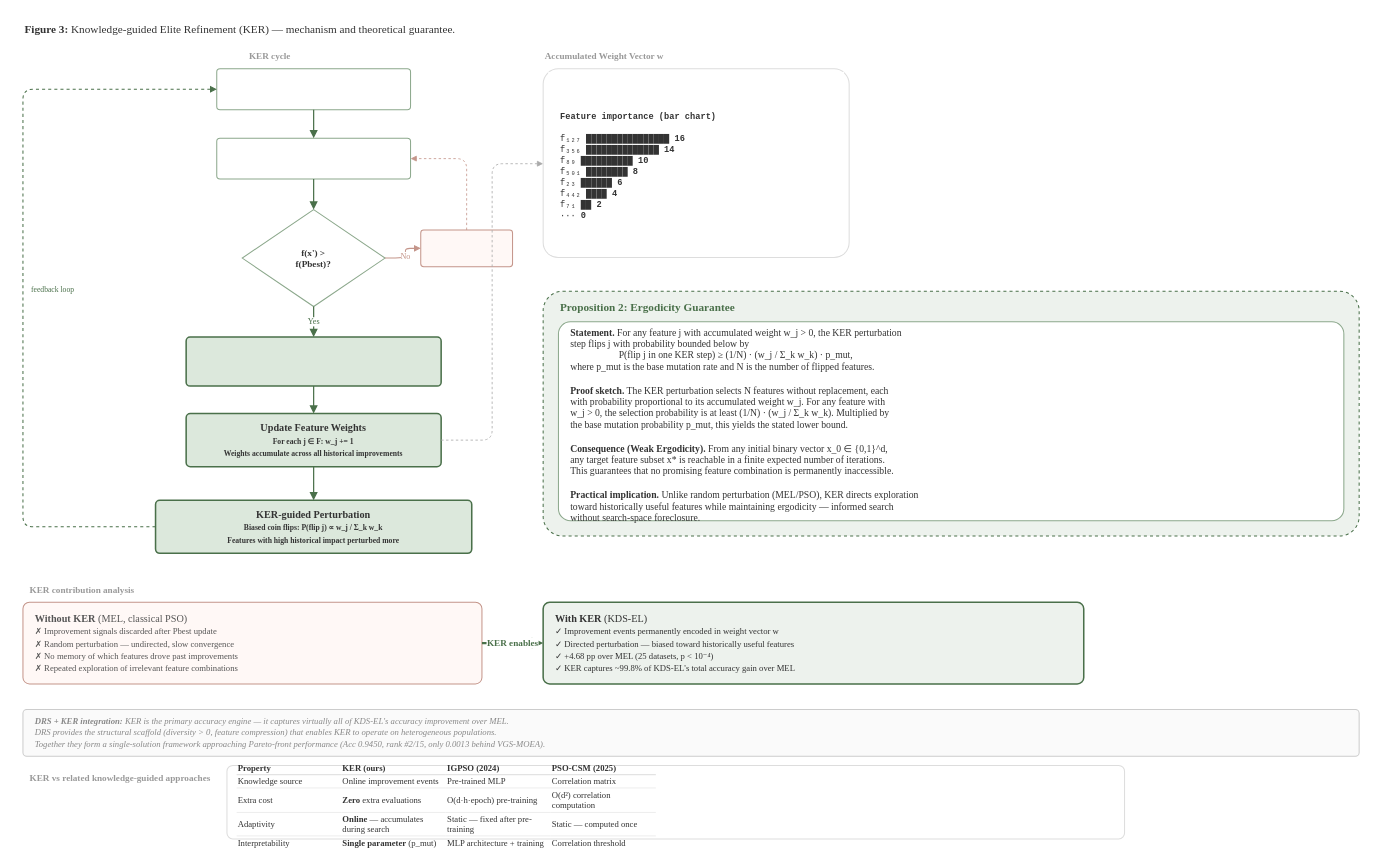
Some shapes in this 1377 by 866 pixel diagram are drawn without their labels. Each missing label, with the centre of its shape:
"Current Elite x* Best solution in population" goes at [313,89].
"Elite Perturbation Flip subset of features → candidate x'" goes at [313,158].
"No Discard x'" goes at [466,248].
"Yes: Record Event Update Pbest → x' Identify flipped feature set F" goes at [313,361].
